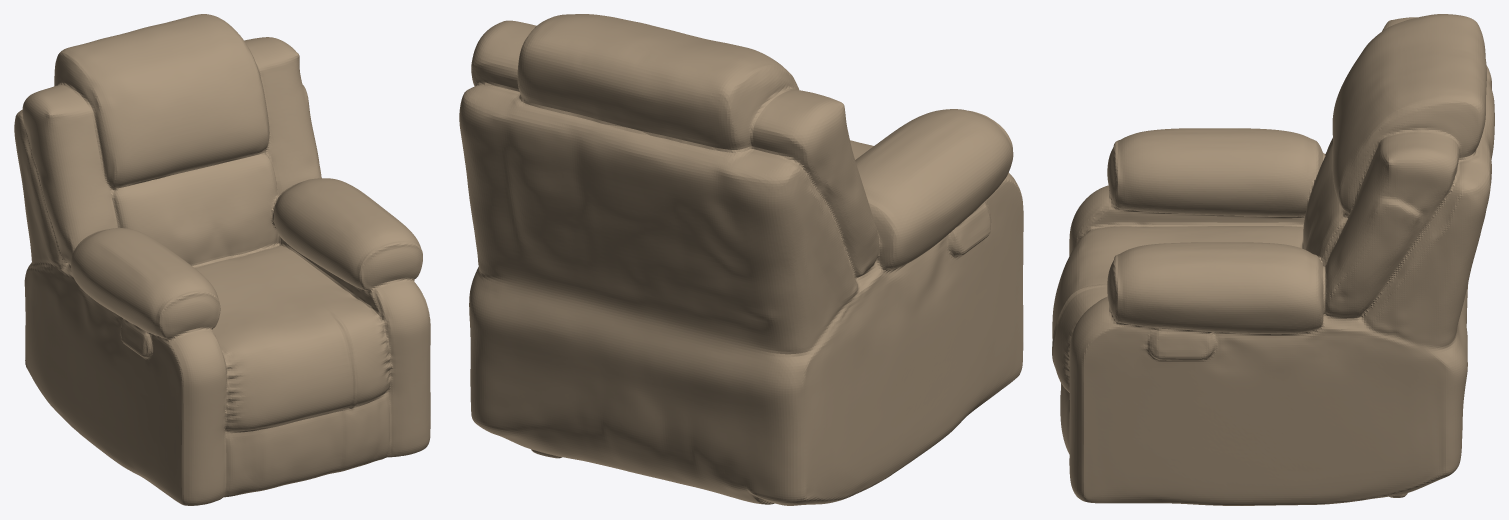
The picture shows the model from 3 angles, left to right: view 1: azimuth 30°, elevation 25°; view 2: azimuth 150°, elevation 25°; view 3: azimuth 270°, elevation 25°; orthographic projection. The views are drawn at different scales.
Visible parts, largest first — view 1: tmpt94cmmmaply; view 2: tmpt94cmmmaply; view 3: tmpt94cmmmaply.
Part boxes in pixels (<box>): tmpt94cmmmaply: <box>14,14,430,505</box>; tmpt94cmmmaply: <box>459,14,1023,505</box>; tmpt94cmmmaply: <box>1052,14,1494,505</box>.
Bounding box in the file's own units: 1.31 × 1.48 × 1.53.
